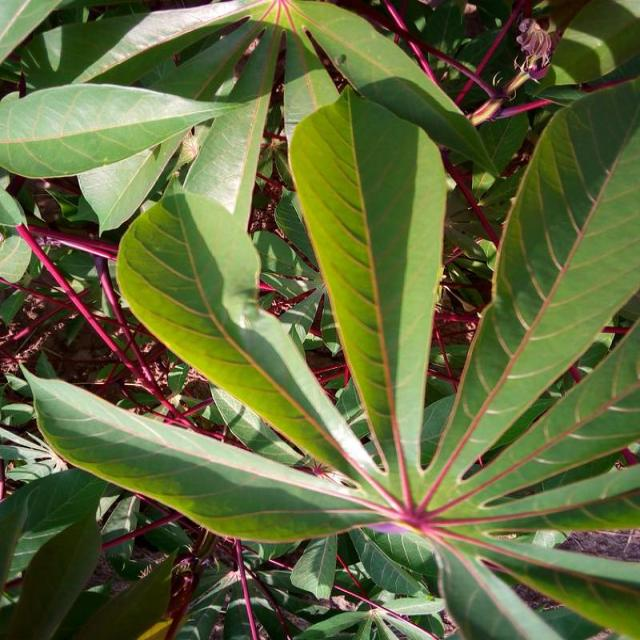cassava leaf: (14, 68, 640, 637), (426, 74, 640, 490), (115, 174, 390, 497), (288, 82, 449, 503)
